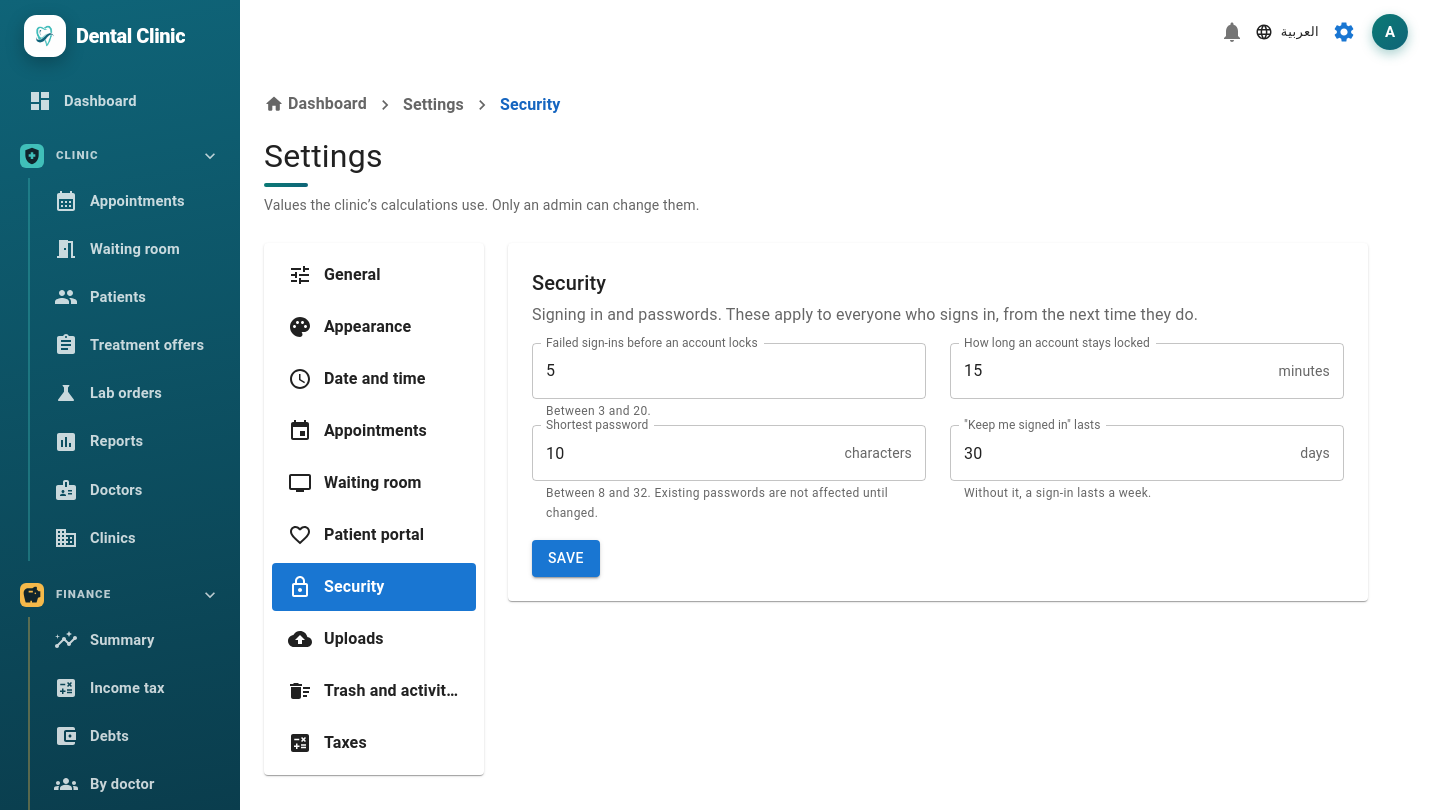
Scenario: the settings pages for how the clinic runs › security: will not go below eight characters
Replace the text in the number field labelled "Shortest password" with "6" at [688, 453], box [532,425,844,481]
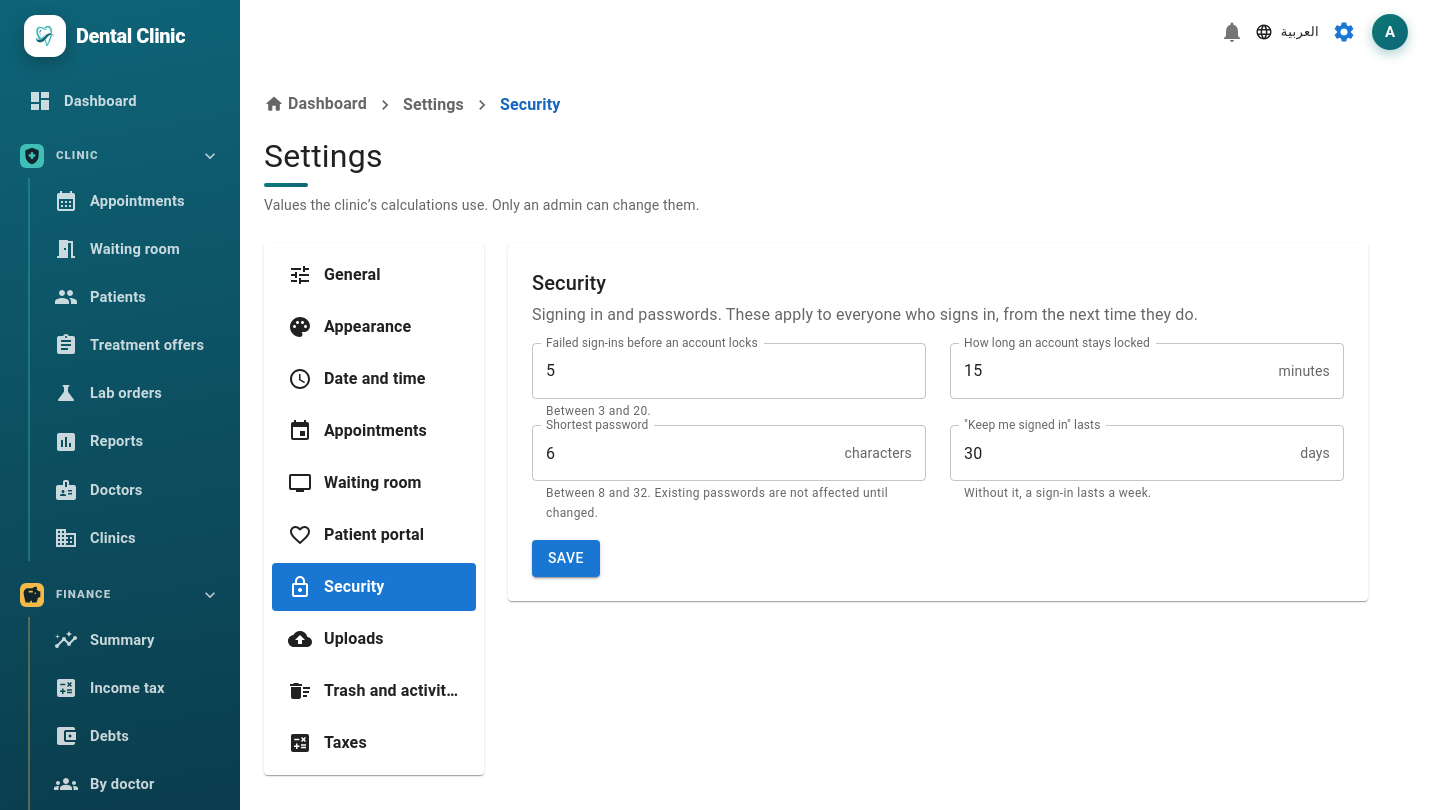
Click the button "Save".
click(566, 559)  # box [532,540,600,577]
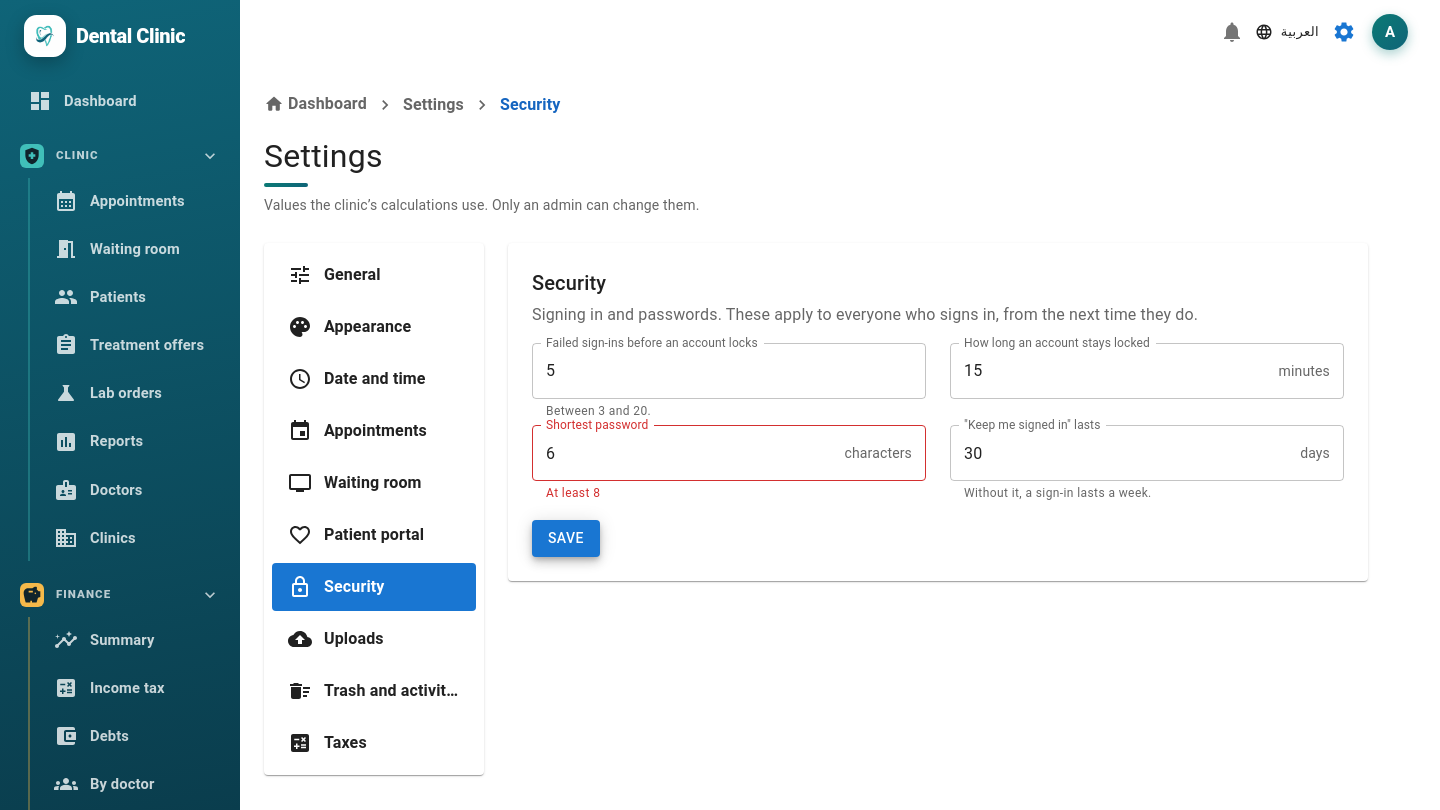
Check: the text "At least 8" is shown, box [546,486,600,500]
